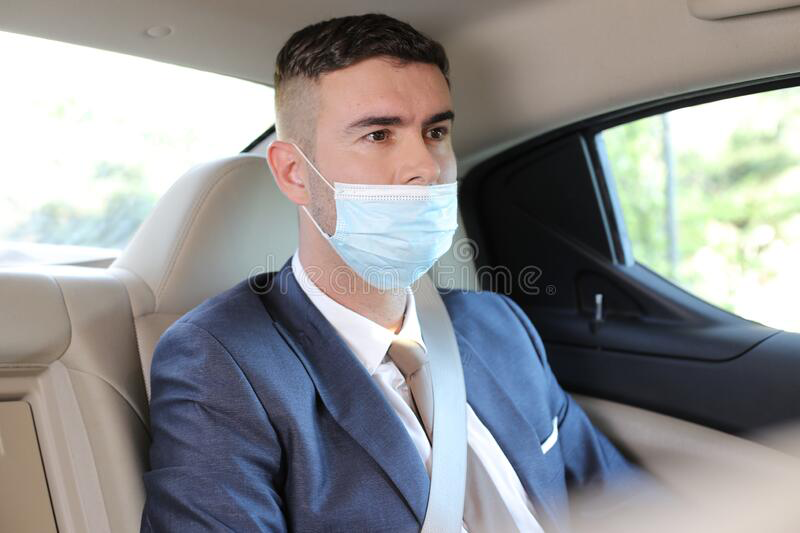mask_weared_incorrect: (315, 104, 460, 284)
